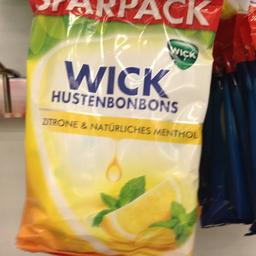candy: (25, 1, 210, 255)
